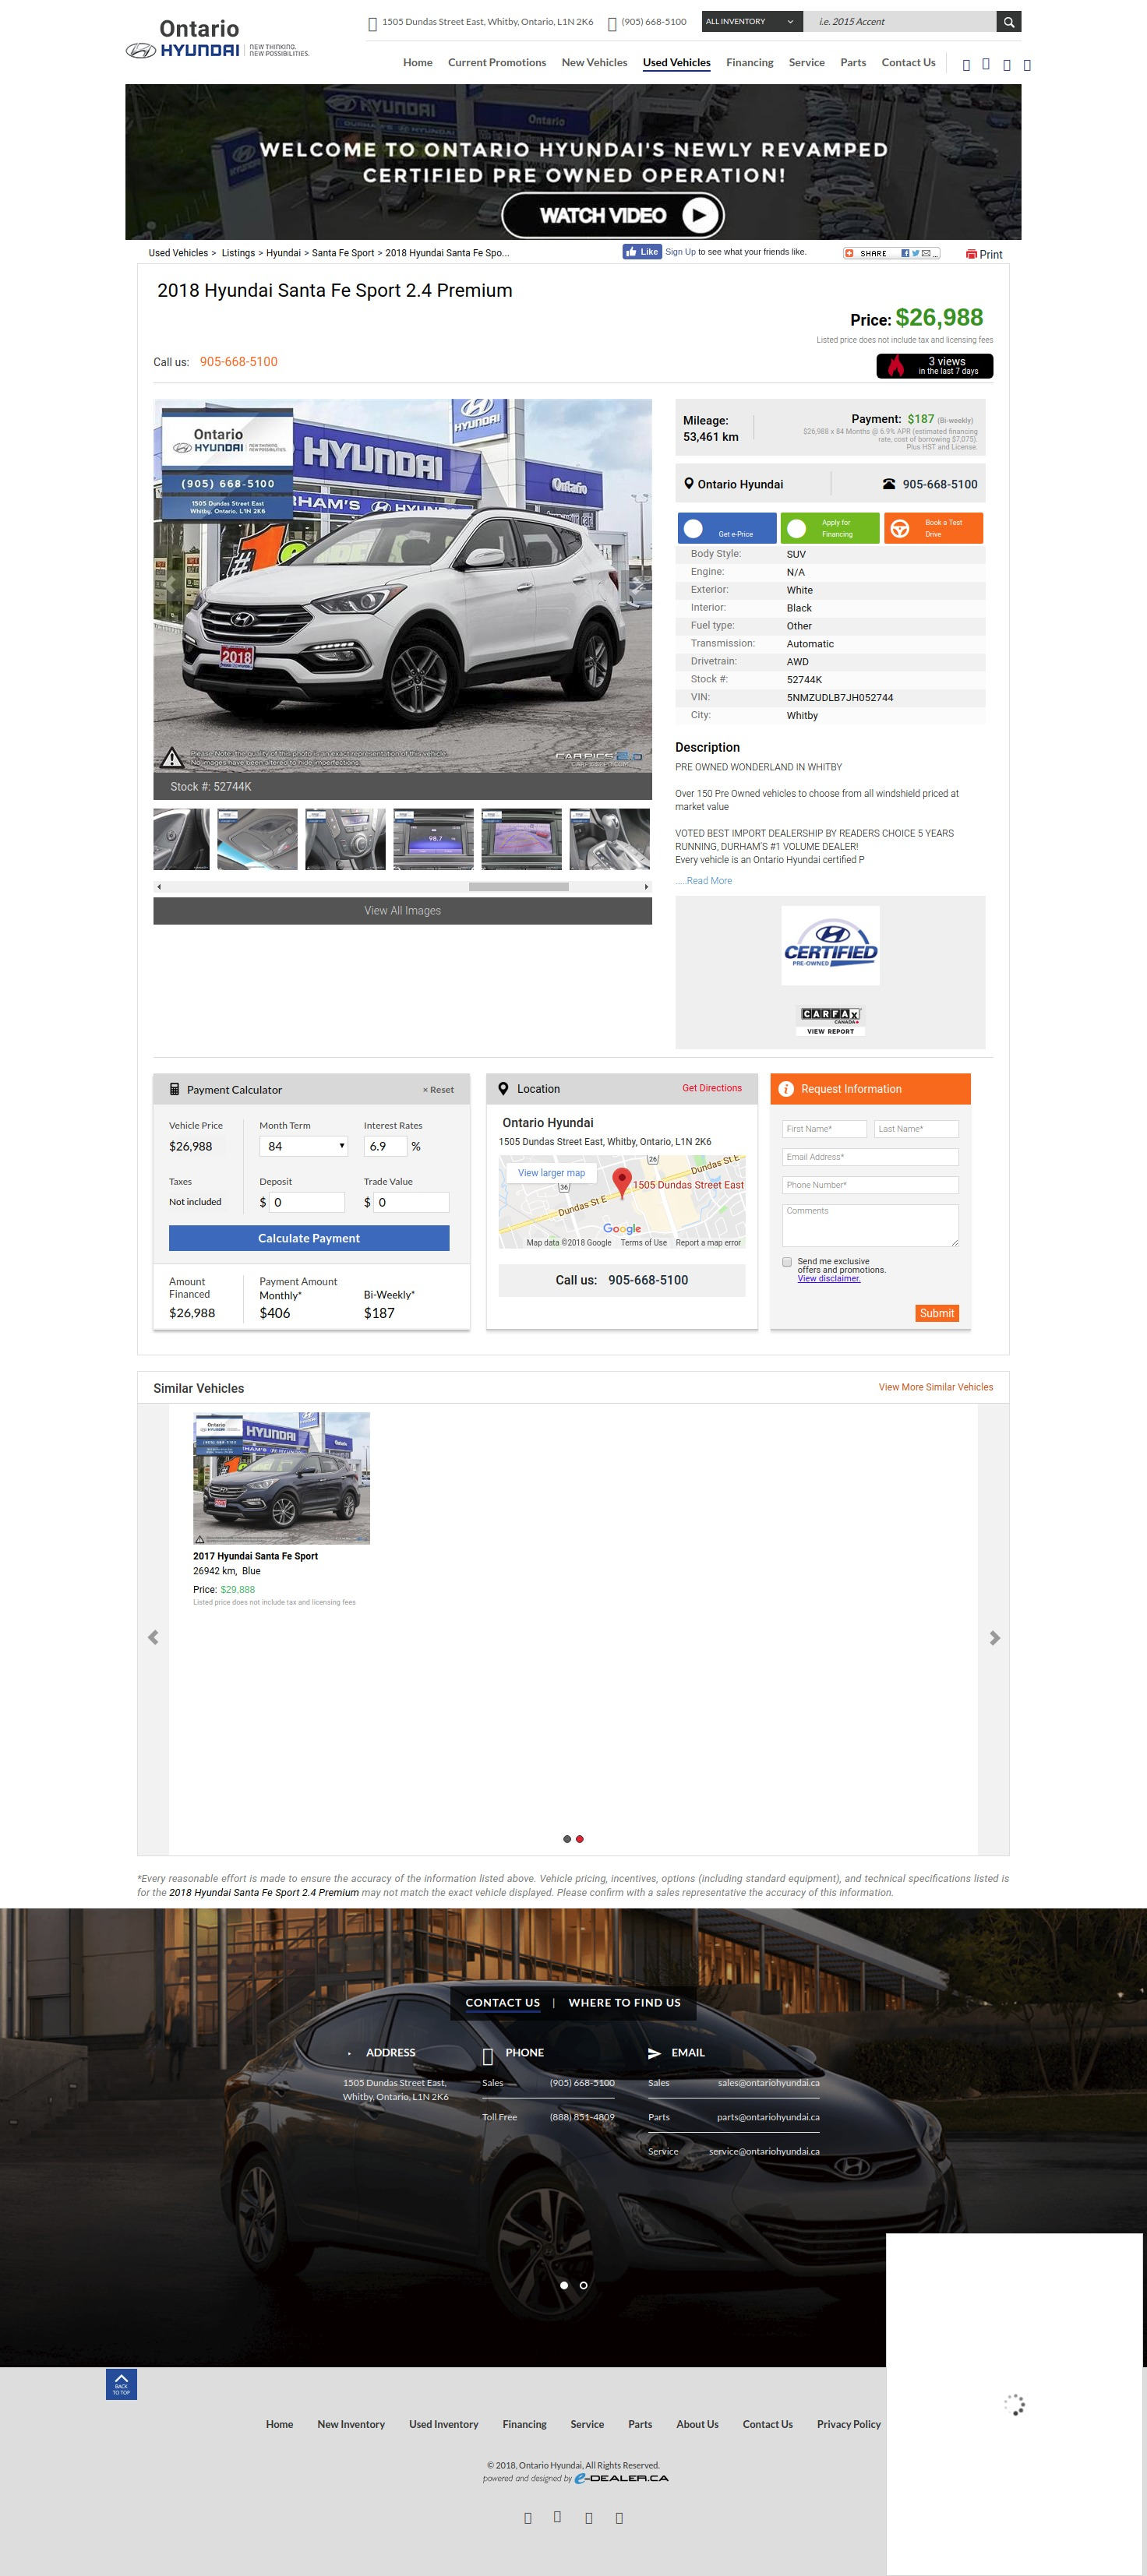car: (646, 884, 649, 890)
